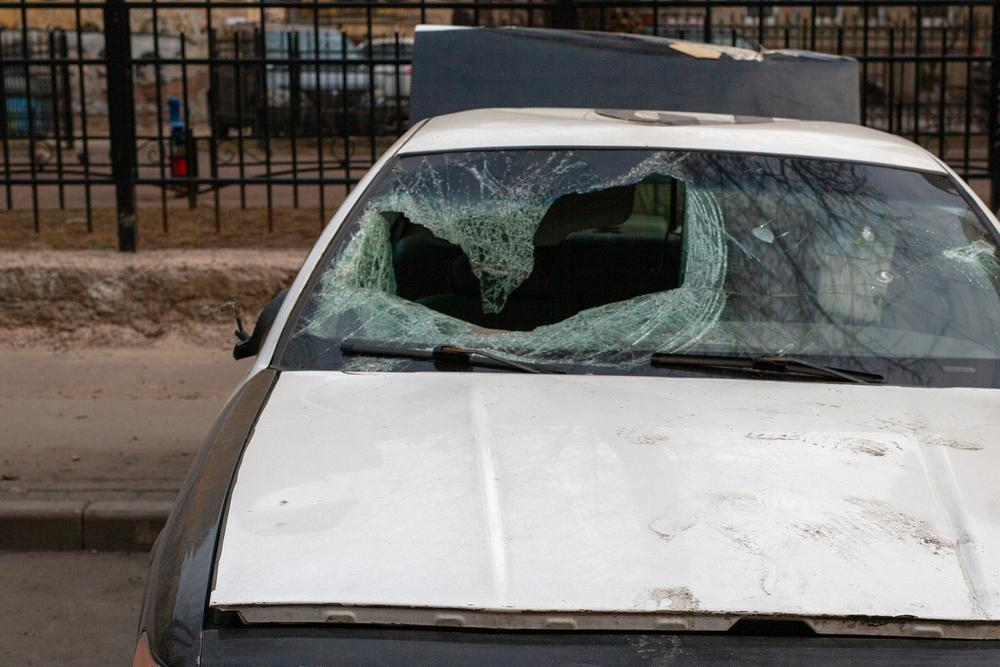glass shatter: (280, 148, 1000, 389)
